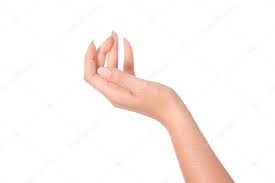hand: (77, 18, 198, 130)
